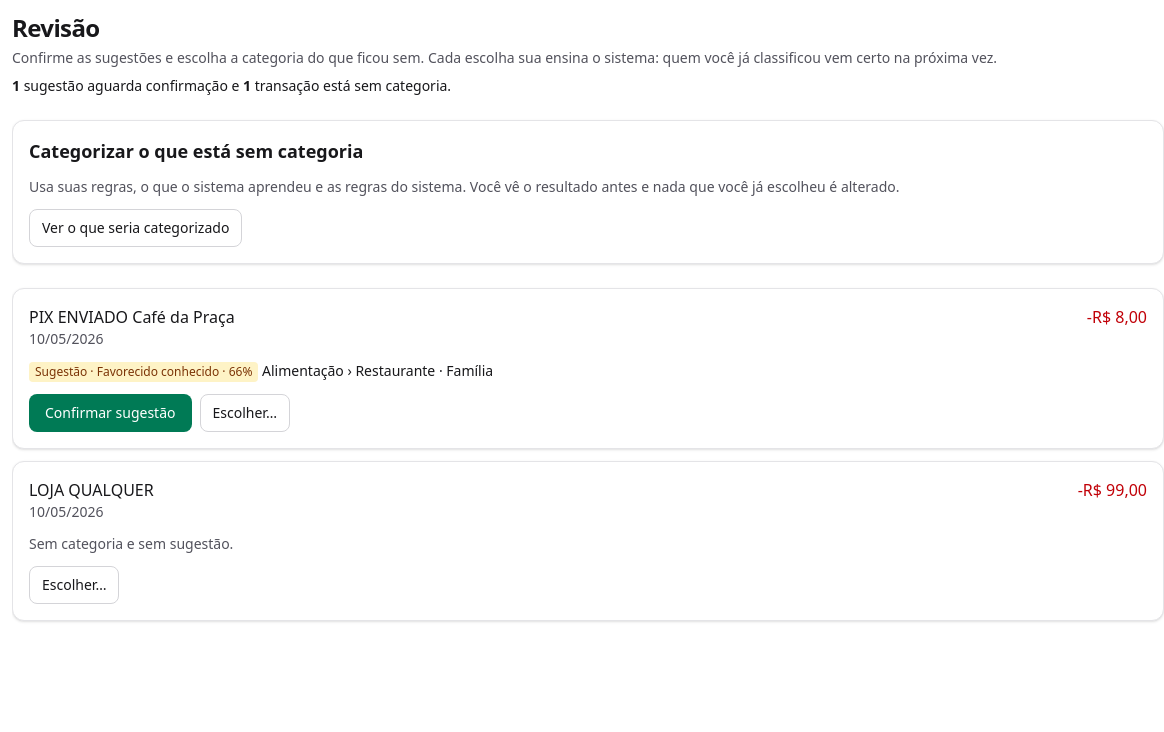
ReviewView › sem nada a aplicar o botão fica desabilitado; cancelar volta ao início
The width and height of the screenshot is (1164, 732).
Click the button "Ver o que seria categorizado". click: (136, 228)
box: [29, 209, 242, 247]
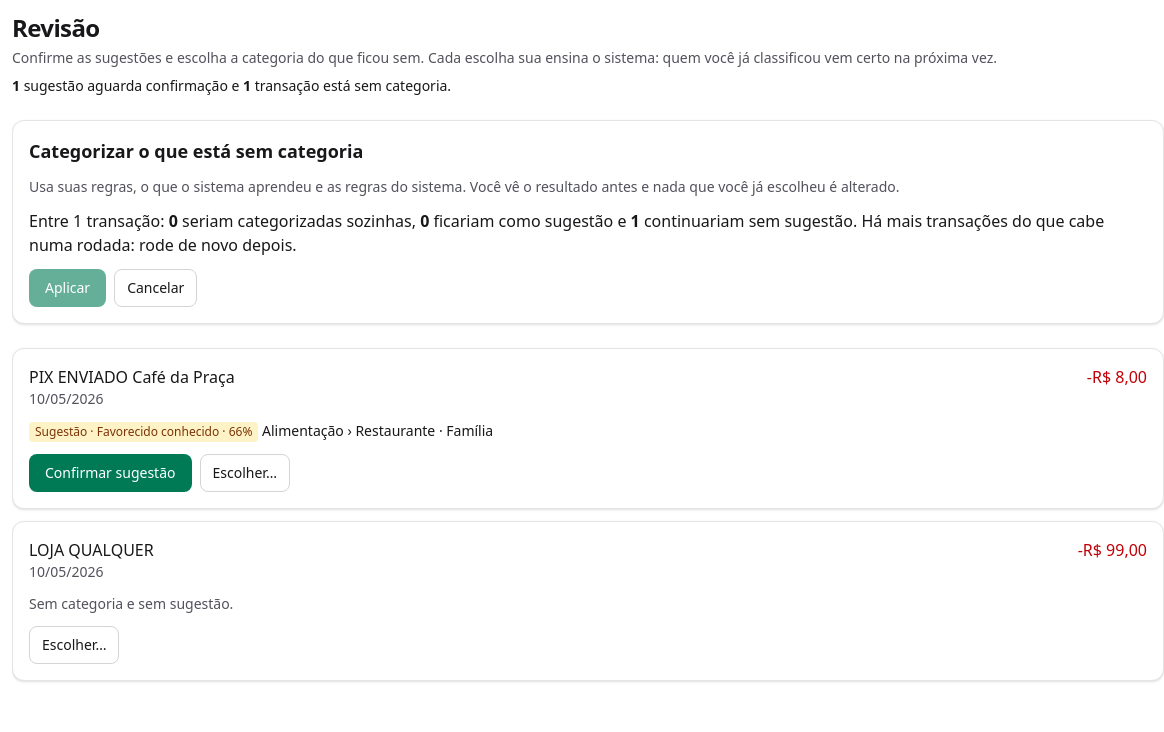
Check: the text "Há mais transações do que cabe" is shown, box [29, 210, 1104, 256]
Check: the button "Aplicar" is disabled, box [29, 269, 106, 307]
Click the button "Cancelar". click: (156, 288)
box: [114, 269, 197, 307]
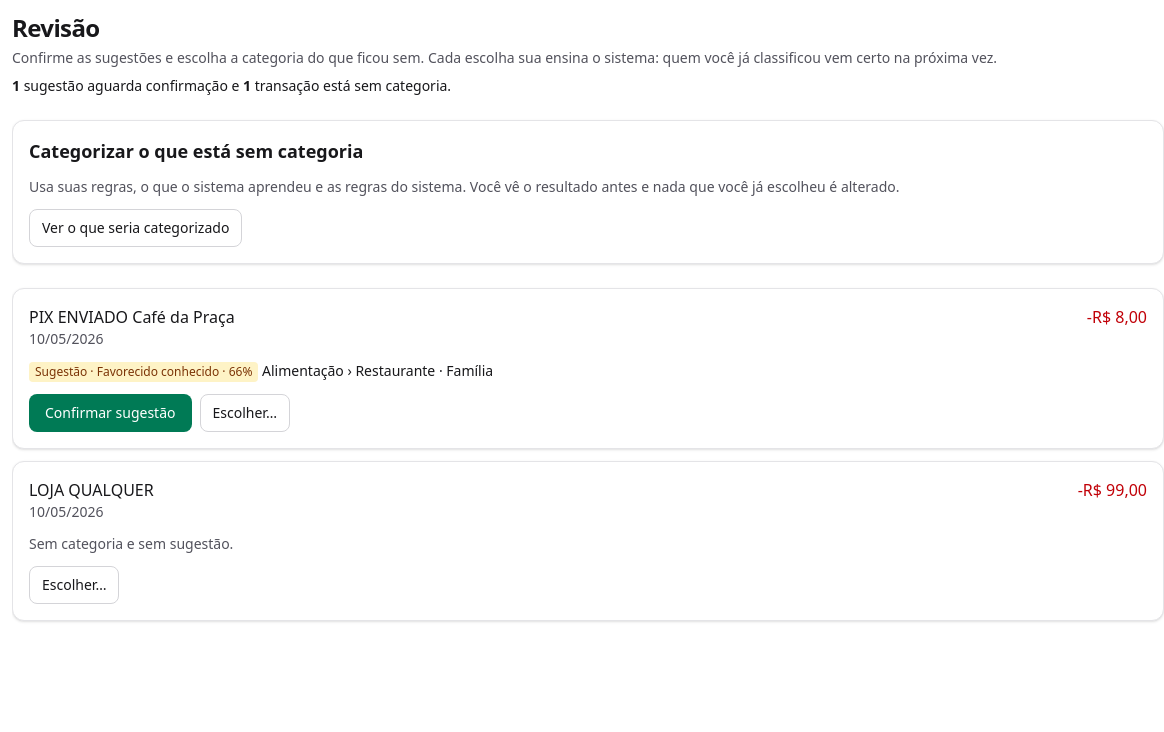
Check: the button "Ver o que seria categorizado" is shown, box [29, 209, 242, 247]
